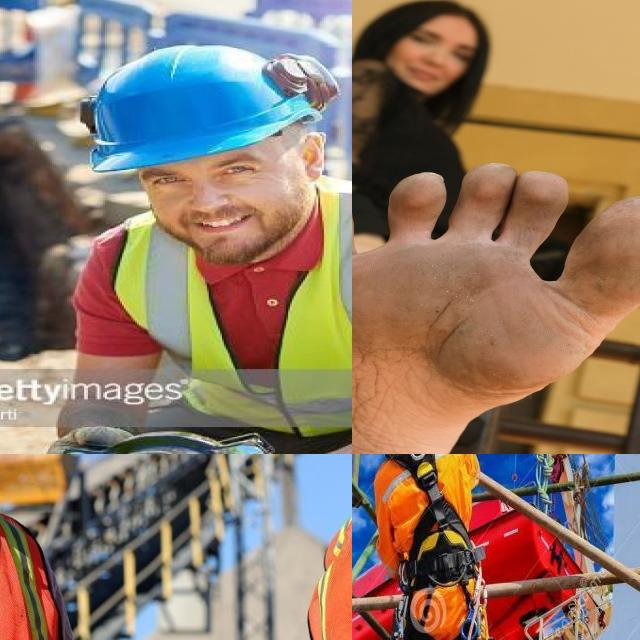Barefoots: (352, 162, 640, 454)
Harness: (386, 454, 475, 592)
No_Ear-Protection: (296, 130, 331, 181)
No_Glasses: (129, 158, 281, 191)
face_nomask: (130, 152, 314, 266)
head_helmet: (72, 43, 310, 166)
person: (22, 37, 352, 454), (0, 454, 109, 640), (249, 454, 352, 640)
vest: (125, 196, 352, 434)
